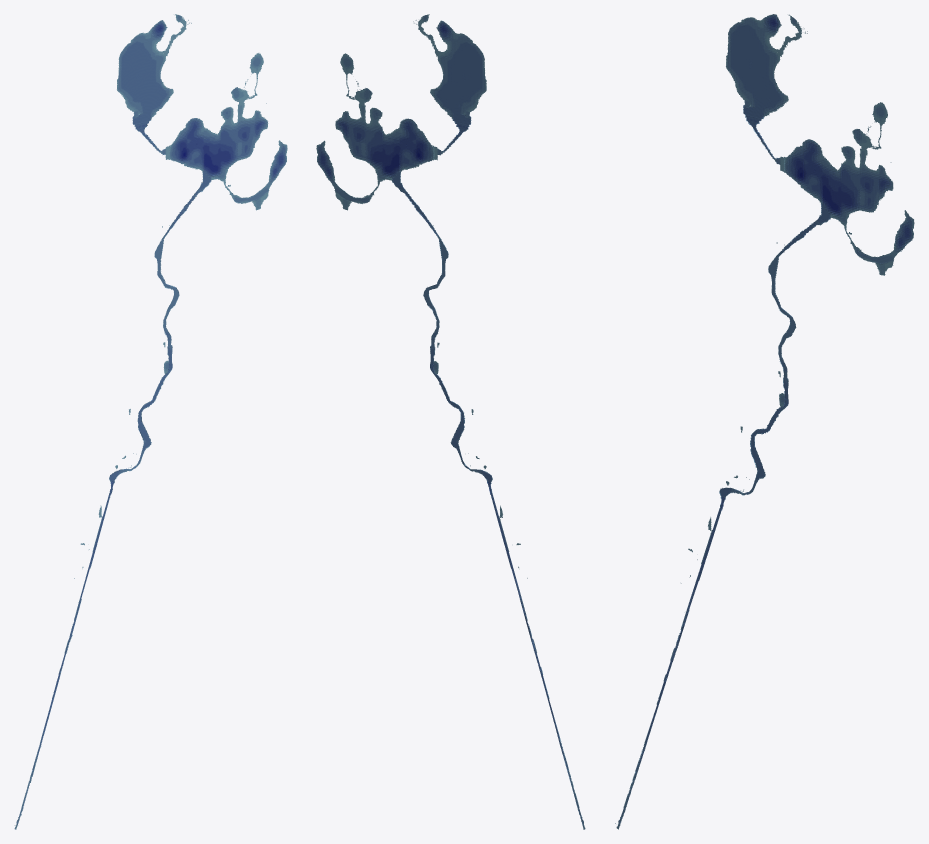
The model's file is triangle_mesh.glb.
3 views of the same model, side by side, from view 1: azimuth 30°, elevation 25°; view 2: azimuth 150°, elevation 25°; view 3: azimuth 330°, elevation 25° (orthographic). The views are drawn at different scales.
Parts seen in each view (by area): view 1: world; view 2: world; view 3: world.
Part boxes in pixels (box(x1,y1,x2,y2)): world: box(14, 14, 287, 829); world: box(316, 14, 585, 829); world: box(615, 14, 914, 829).
Bounding box in the file's own units: 1003 × 2736 × 13.71.
